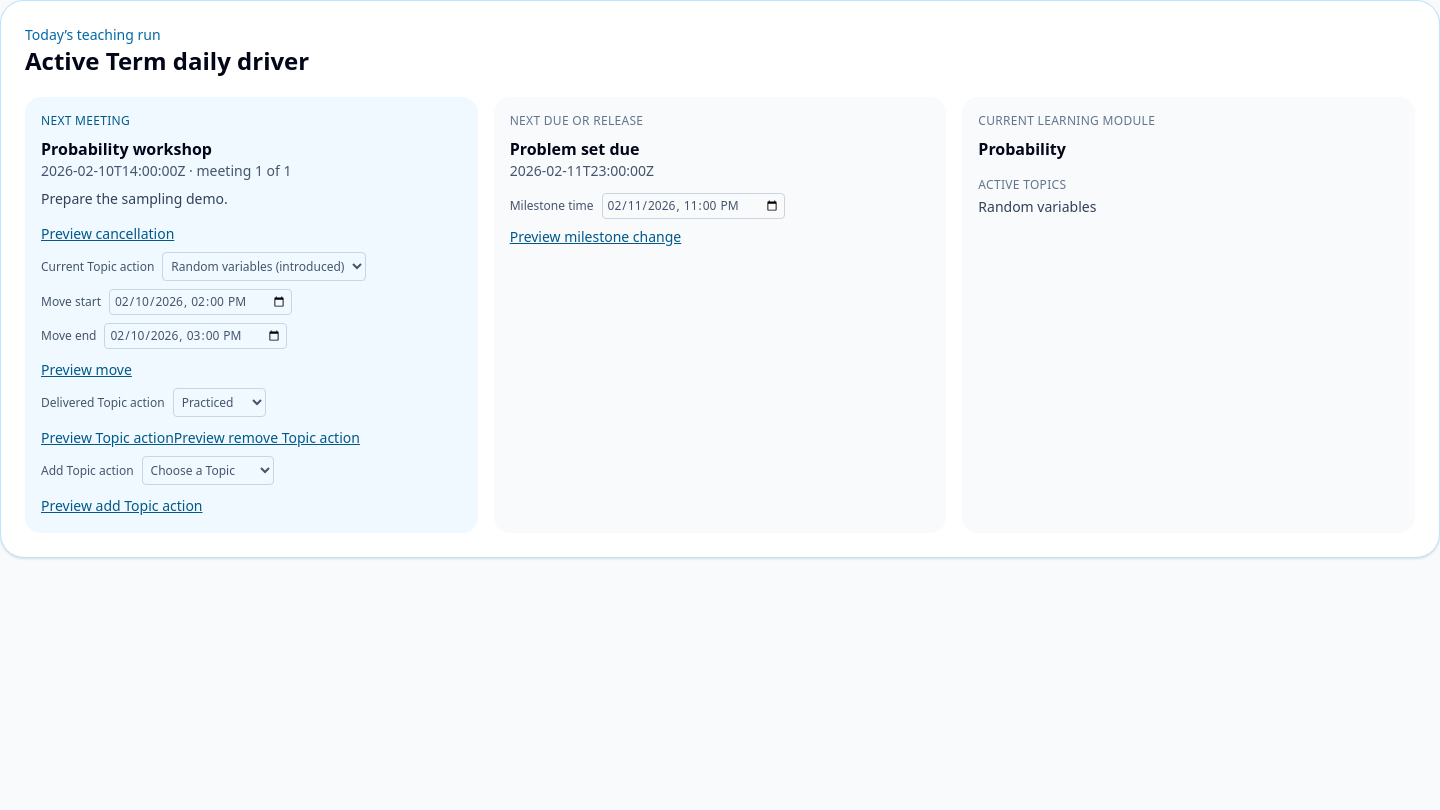
ActiveTermDailyDriver › blocks a moved meeting when its end is not after its start
Replace the text in the field named "Move meeting start" with "2026-02-10T16:00" at (200, 302), box [109,289,292,315]
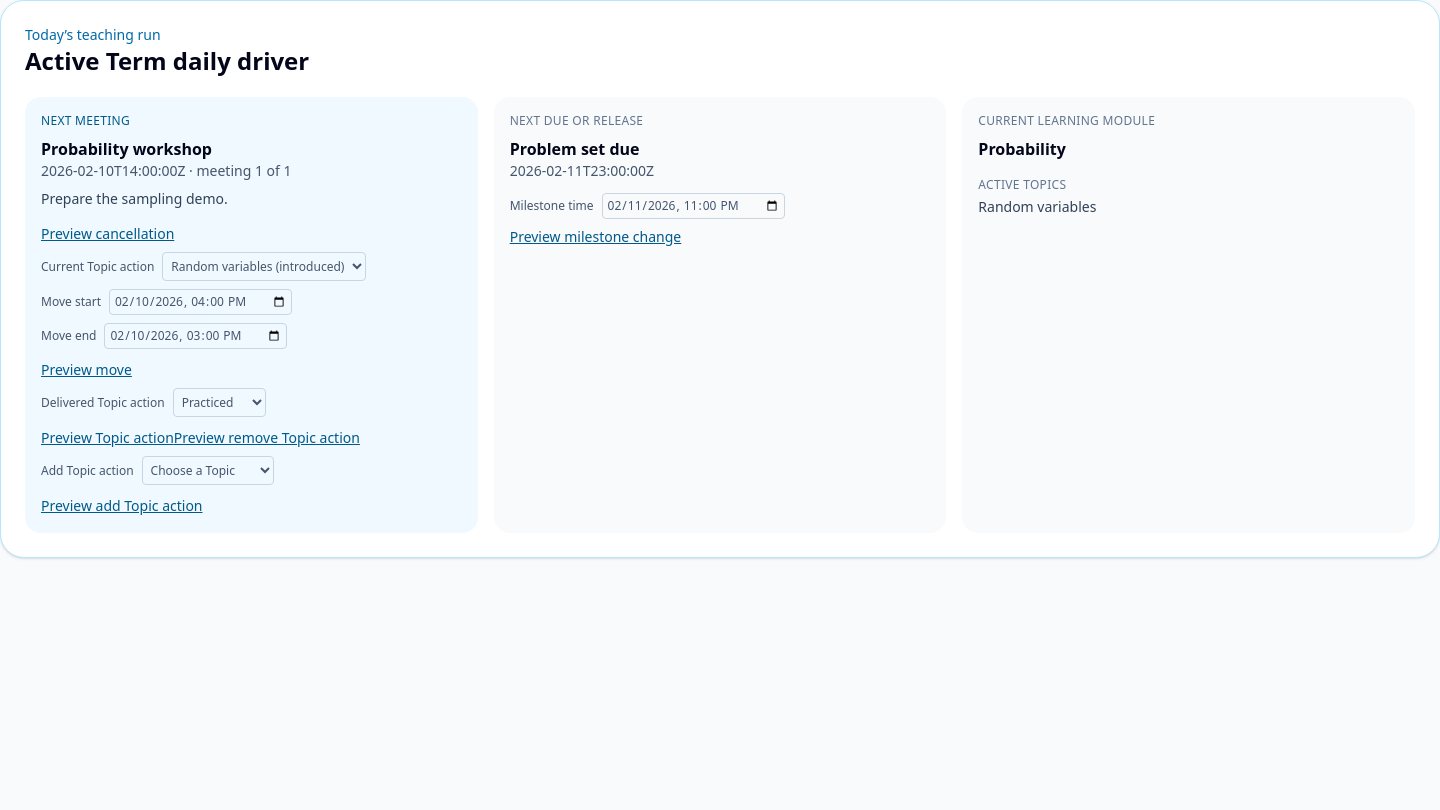
Click the button "Preview move".
click(86, 370)  # box [41,360,132,380]
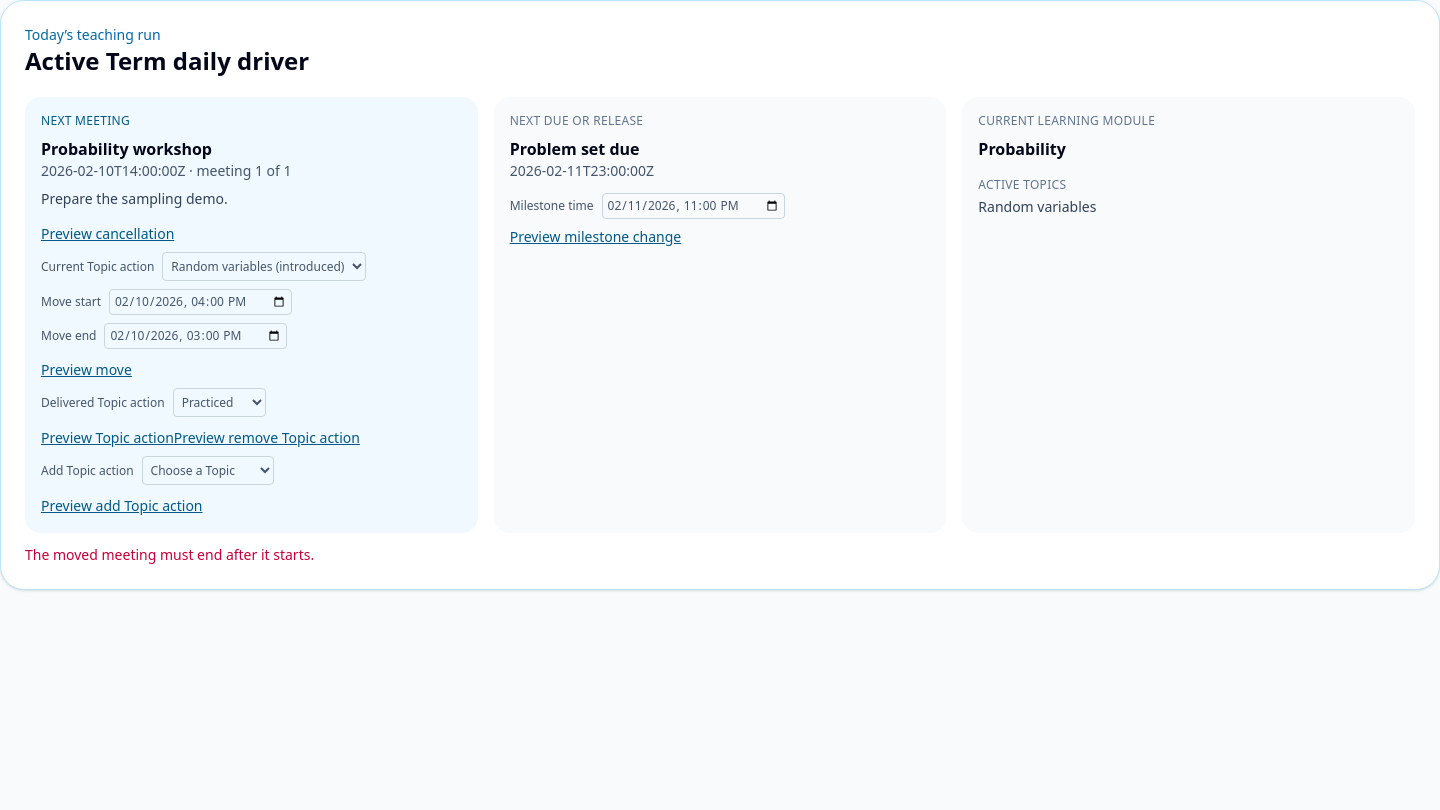
Now the text "The moved meeting must end after it starts." is shown, box [25,545,314,564]
